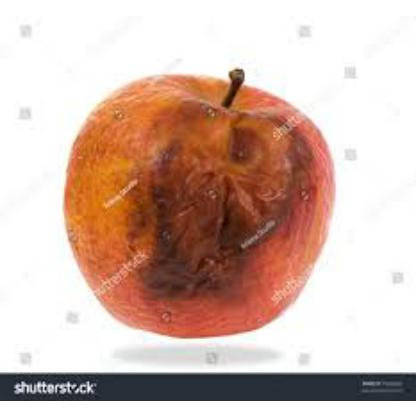damaged_apple: (66, 78, 338, 335)
